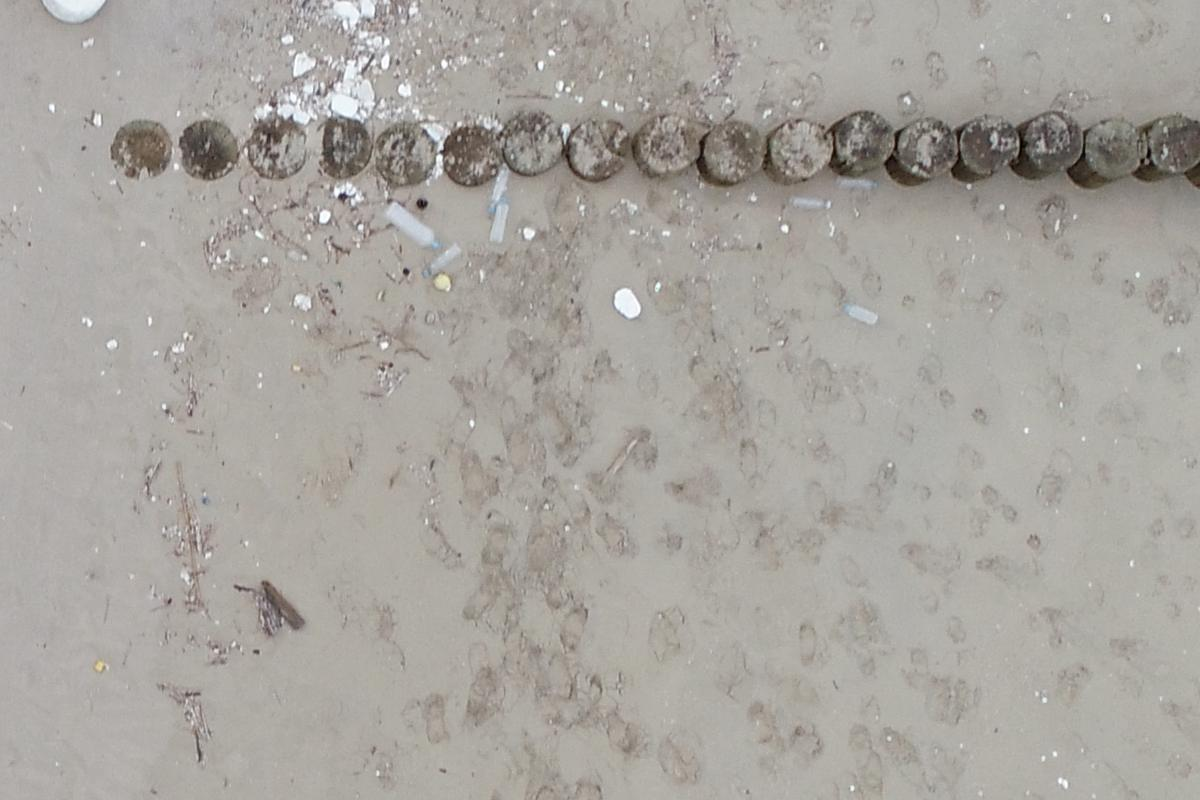(11)PET_Bottle: (375, 201, 441, 252)
(21)Styrofoam_Piece: (35, 0, 105, 23), (614, 281, 640, 320)
\: (841, 297, 881, 329), (487, 166, 511, 216), (488, 193, 507, 246), (785, 194, 831, 211), (834, 175, 884, 190)
